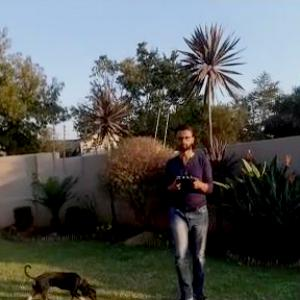follow: (164, 119, 216, 299)
null: (20, 260, 100, 299)
